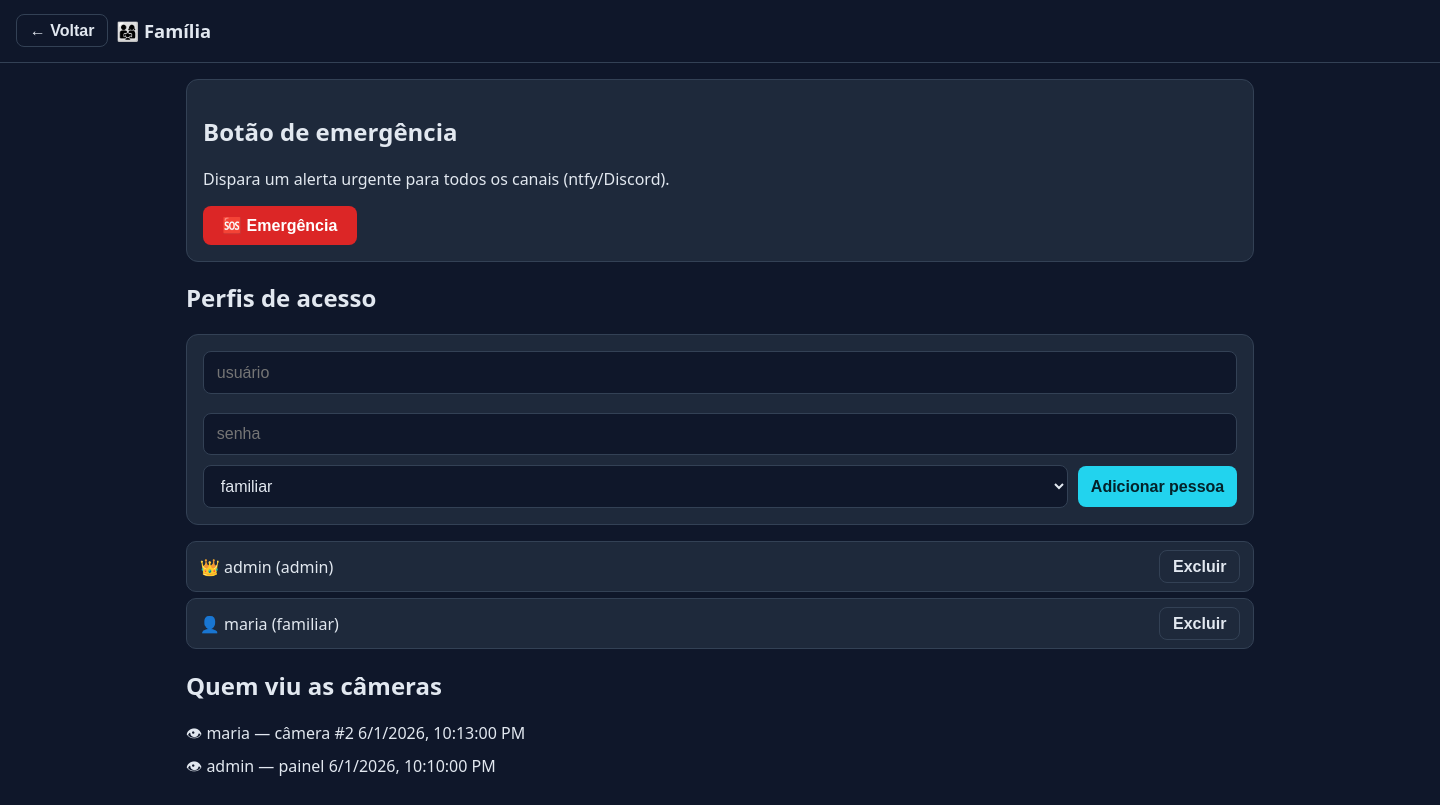
Test: Family › shows an error when the emergency fails
Click the button "🆘 Emergência": (280, 226) left=203, top=206, right=356, bottom=245
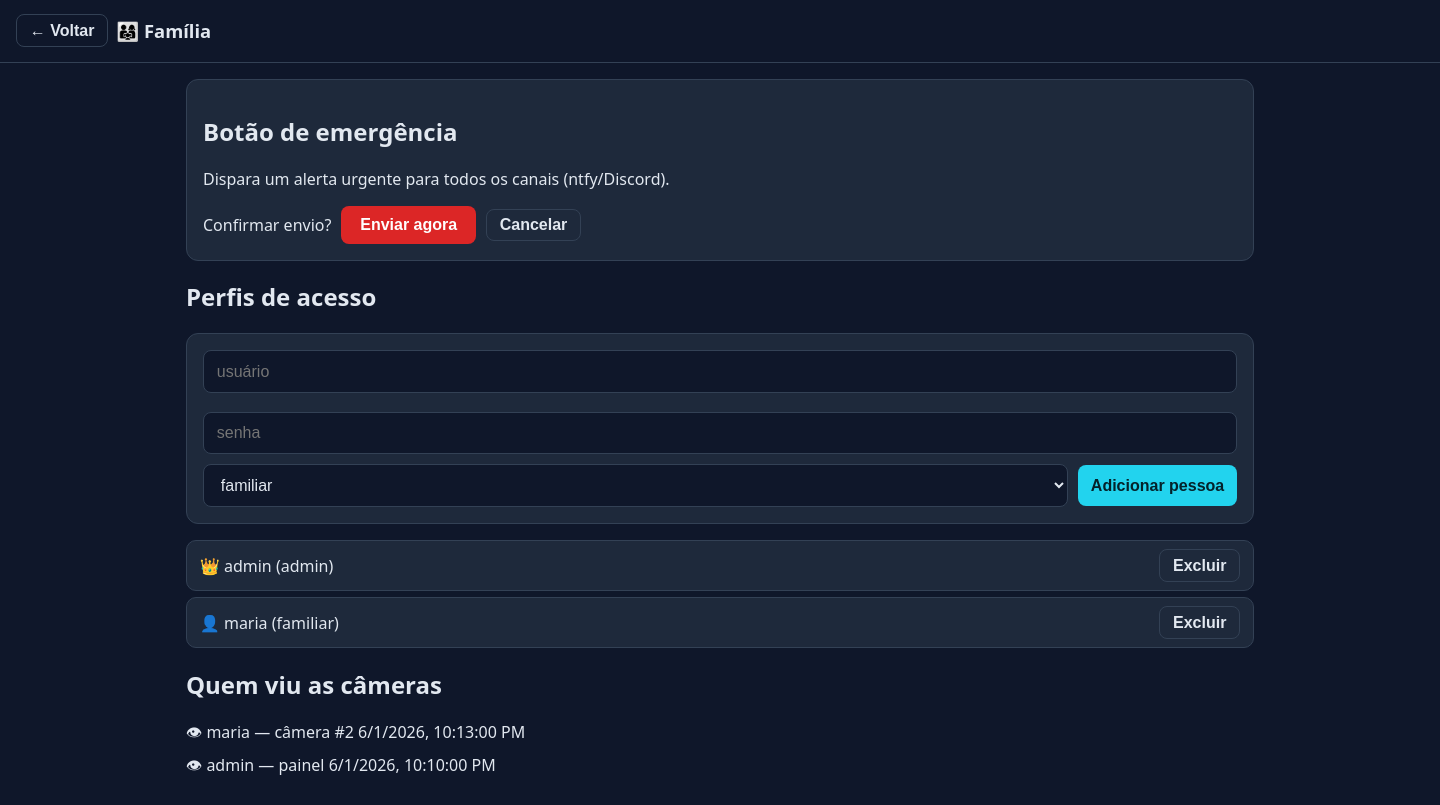
Click the button "Enviar agora": (409, 225) left=341, top=206, right=476, bottom=244
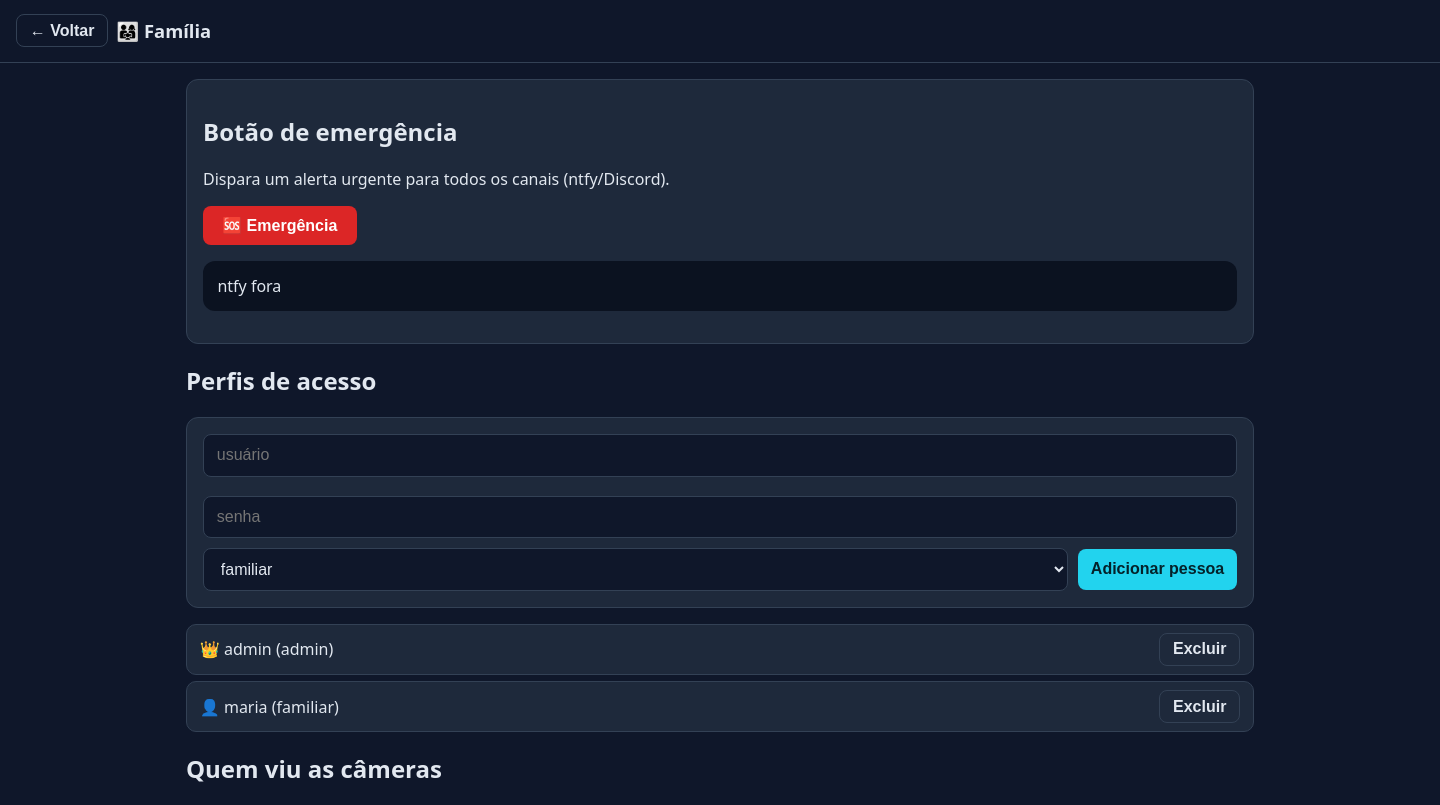
Check: the text "ntfy fora" is shown, box left=203, top=261, right=1237, bottom=311
